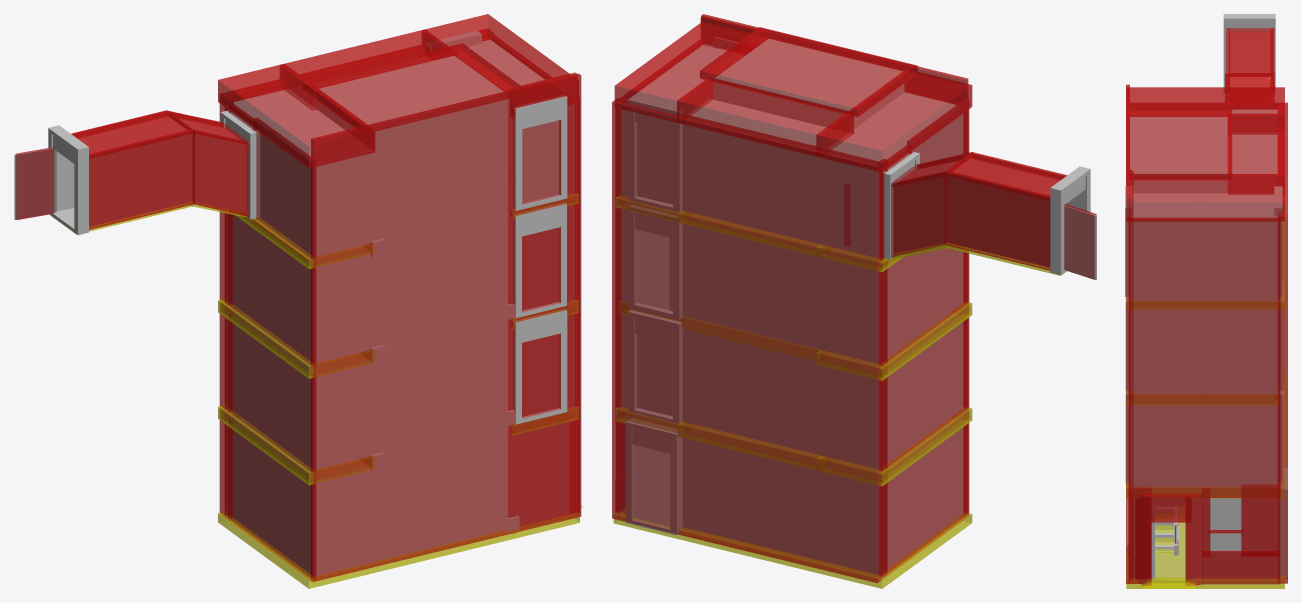
Rendered from CT_Interior_001_3.dae.
The picture shows the model from 3 angles, left to right: view 1: azimuth 30°, elevation 25°; view 2: azimuth 150°, elevation 25°; view 3: azimuth 270°, elevation 25°; orthographic projection. The views are drawn at different scales.
Visible parts, largest first — view 1: ColMesh-2, polymsh2, ColMesh-3; view 2: ColMesh-2, polymsh2, ColMesh-3; view 3: ColMesh-2, polymsh2, ColMesh-3.
Boxes of the visible parts, box(x1,y1,x2,y2) form: ColMesh-2: box(16, 14, 581, 581); polymsh2: box(14, 30, 574, 575); ColMesh-3: box(50, 193, 583, 588); ColMesh-2: box(612, 14, 1096, 582); polymsh2: box(621, 37, 1096, 574); ColMesh-3: box(613, 196, 1066, 588); ColMesh-2: box(1126, 28, 1287, 585); polymsh2: box(1125, 14, 1287, 582); ColMesh-3: box(1126, 221, 1284, 588).
Size of the model in its own units: 174 by 152 by 57.13.
